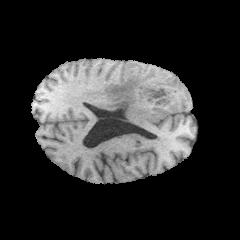glioma: (103, 64, 184, 135)
